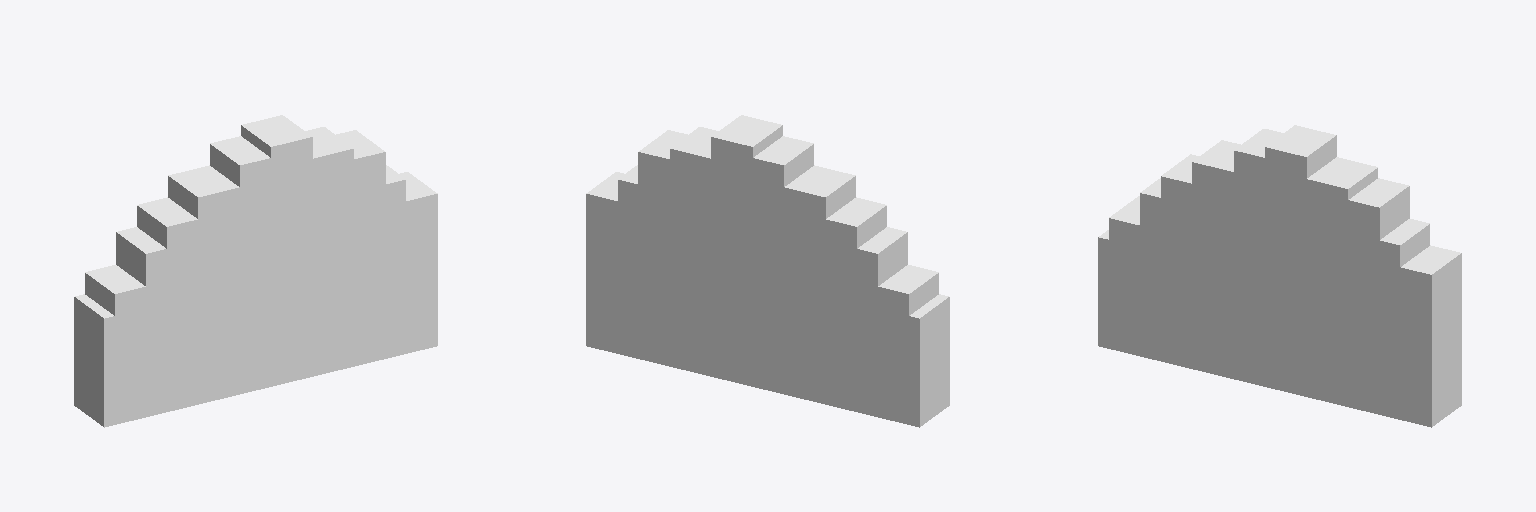
The model's file is wall_3.obj.
The picture shows the model from 3 angles: view 1: azimuth 30°, elevation 25°; view 2: azimuth 150°, elevation 25°; view 3: azimuth 330°, elevation 25°; orthographic projection.
Parts seen in each view (by area): view 1: object 1; view 2: object 1; view 3: object 1.
Part boxes in pixels (x1,y1,x2,y2): object 1: (74,115,437,427); object 1: (586,115,949,427); object 1: (1098,125,1461,427).
Bounding box in the file's own units: 3.2 × 2.2 × 0.5.